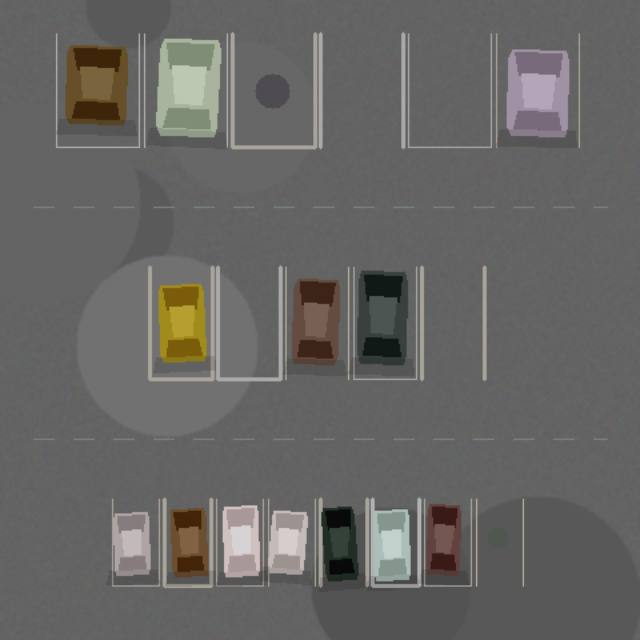space-empty: (232, 33, 315, 147), (320, 33, 403, 147), (408, 33, 491, 147), (217, 267, 280, 379), (421, 267, 484, 379), (476, 499, 523, 585)
space-occupied: (56, 33, 139, 147), (144, 33, 227, 147), (496, 33, 579, 147), (149, 267, 212, 379), (285, 267, 348, 379), (353, 267, 416, 379), (112, 499, 159, 585), (164, 499, 211, 585), (216, 499, 263, 585), (268, 499, 315, 585), (320, 499, 367, 585), (372, 499, 419, 585), (424, 499, 471, 585)
